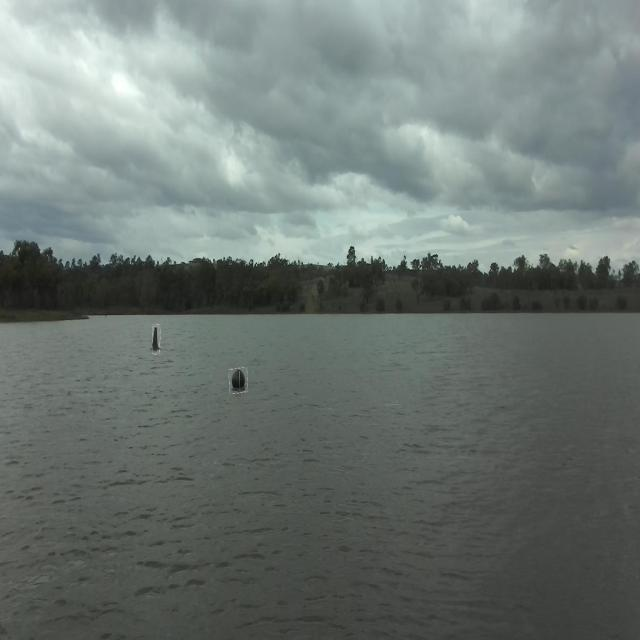Black_Buoy: (230, 372, 248, 397), (151, 328, 164, 359)
